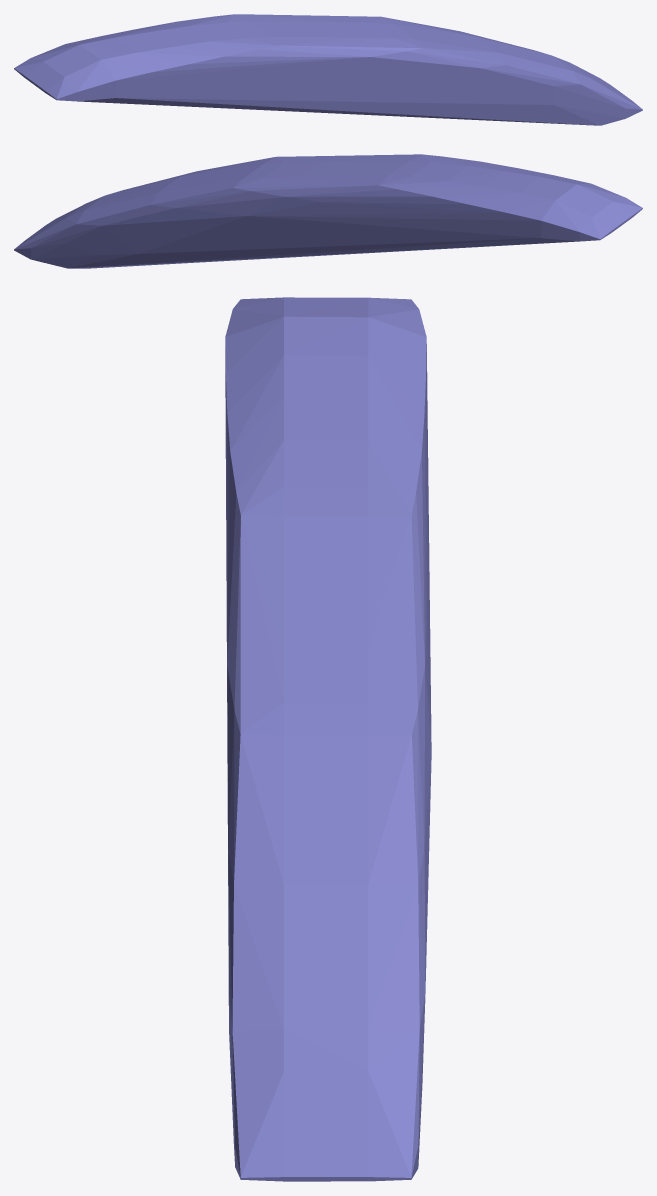
Rendered from right_forearm_0_part_12.obj.
3 views of the same model, one above another, from view 1: azimuth 30°, elevation 25°; view 2: azimuth 150°, elevation 25°; view 3: azimuth 270°, elevation 25° (orthographic). The views are drawn at different scales.
Bounding box in the file's own units: 36.07 × 10.56 × 5.49.
